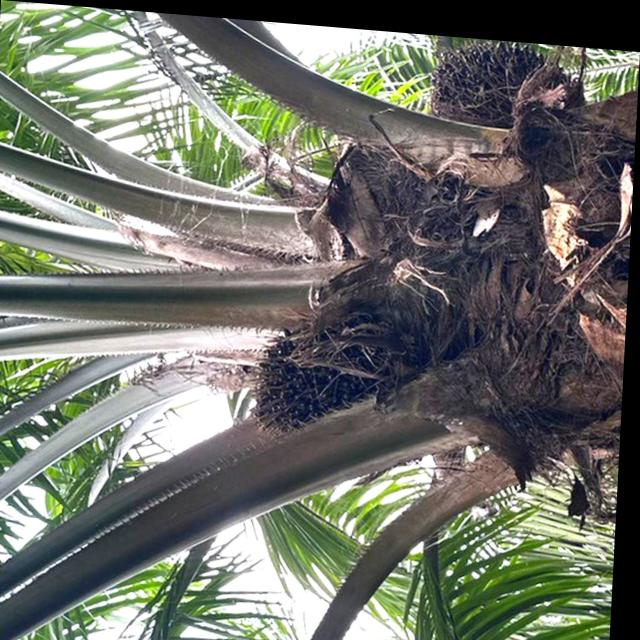unripe: (239, 289, 413, 454)
